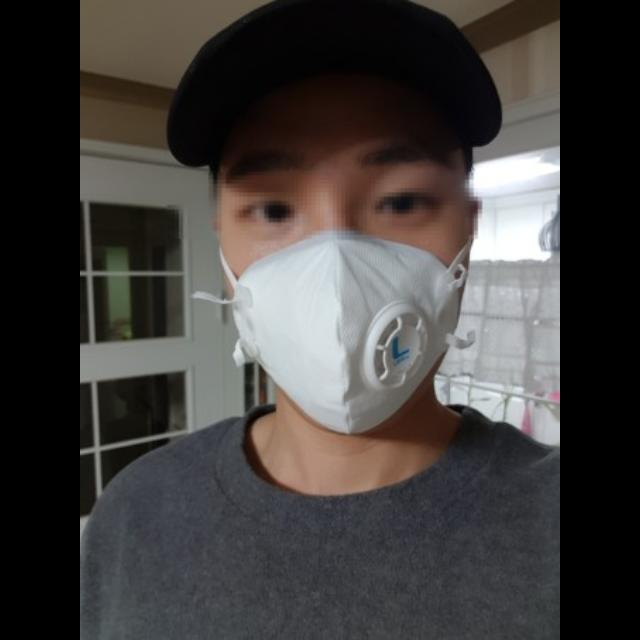masks: (192, 232, 510, 440)
